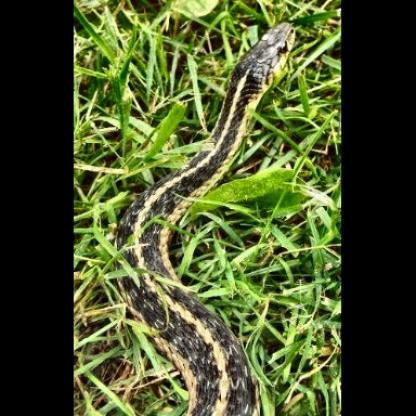Snake: (95, 16, 296, 252)
